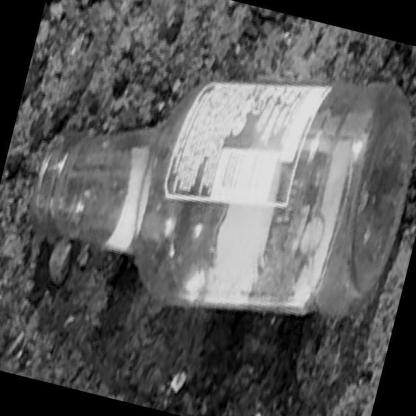Can: (30, 80, 412, 319)
